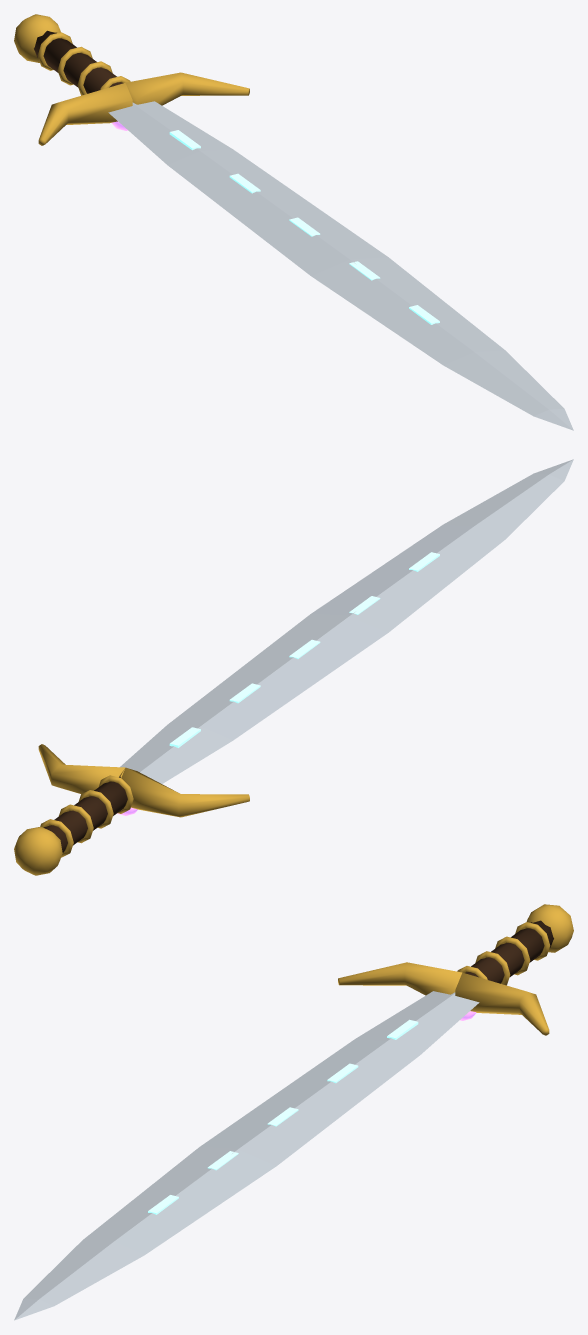
The model's file is elven-sword.glb.
3 views of the same model, one above another, from view 1: azimuth 30°, elevation 25°; view 2: azimuth 150°, elevation 25°; view 3: azimuth 330°, elevation 25° (orthographic).
Parts seen in each view (by area): view 1: Model Mesh; view 2: Model Mesh; view 3: Model Mesh.
Part boxes in pixels (box(x1,y1,x2,y2)): Model Mesh: box(14, 14, 573, 430); Model Mesh: box(14, 459, 573, 875); Model Mesh: box(14, 904, 573, 1320).
Bounding box in the file's own units: 0.2449 × 0.055 × 1.1.
